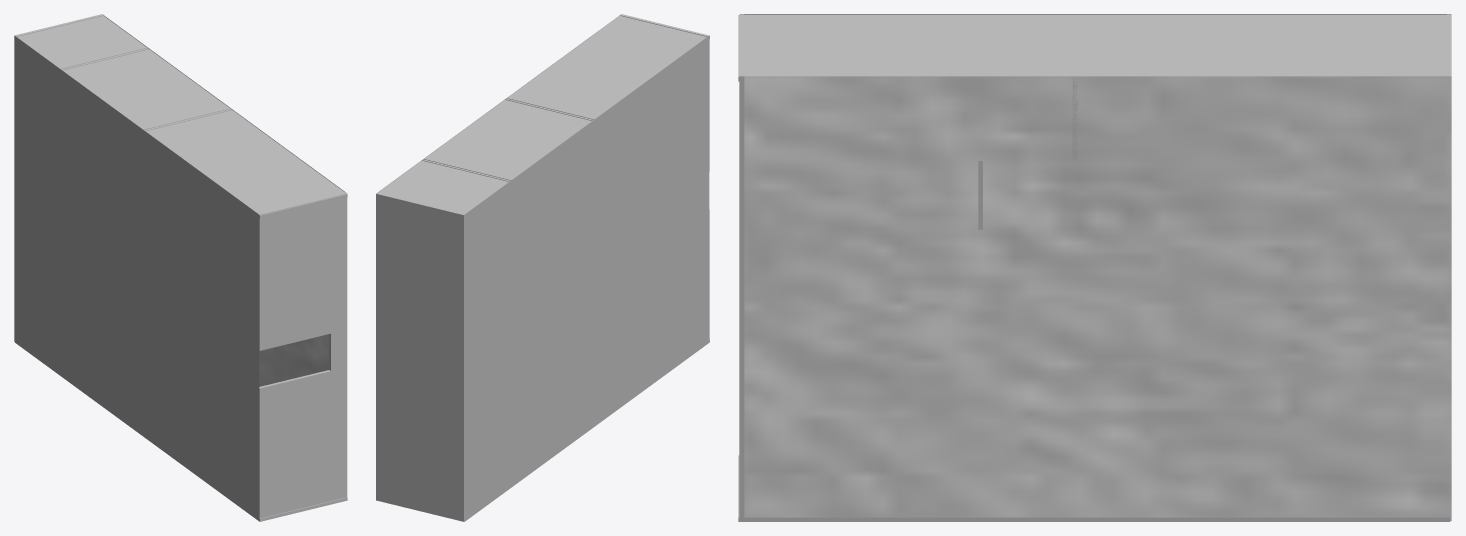
File: Map.fbx
3 views of the same model, side by side, from view 1: azimuth 30°, elevation 25°; view 2: azimuth 150°, elevation 25°; view 3: azimuth 270°, elevation 25° (orthographic). The views are drawn at different scales.
Parts seen in each view (by area): view 1: Floor, Ext01_WallDoor_Z, Ext02_Wall_Y, Ceiling, Ext04_Wall_Y; view 2: Floor, Ext03_Wall_Z, Ext02_Wall_Y, Ext01_WallDoor_Z, Ext04_Wall_Y; view 3: Ceiling, Ext02_Wall_Y, Ext04_Wall_Y, Ext01_WallDoor_Z.
Part boxes in pixels (x1,y1,x2,y2): Floor: (14,35,259,516); Ext01_WallDoor_Z: (257,192,347,518); Ext02_Wall_Y: (17,16,347,218); Ceiling: (103,15,345,386); Ext04_Wall_Y: (15,342,347,521); Floor: (464,37,709,521); Ext03_Wall_Z: (376,192,464,521); Ext02_Wall_Y: (378,16,709,213); Ext01_WallDoor_Z: (620,14,709,340); Ext04_Wall_Y: (464,339,709,521); Ceiling: (744,76,1451,520); Ext02_Wall_Y: (738,15,1446,81); Ext04_Wall_Y: (738,455,1449,521); Ext01_WallDoor_Z: (739,14,744,521).
Bounding box in the file's own units: 300 × 1002 × 1454.
